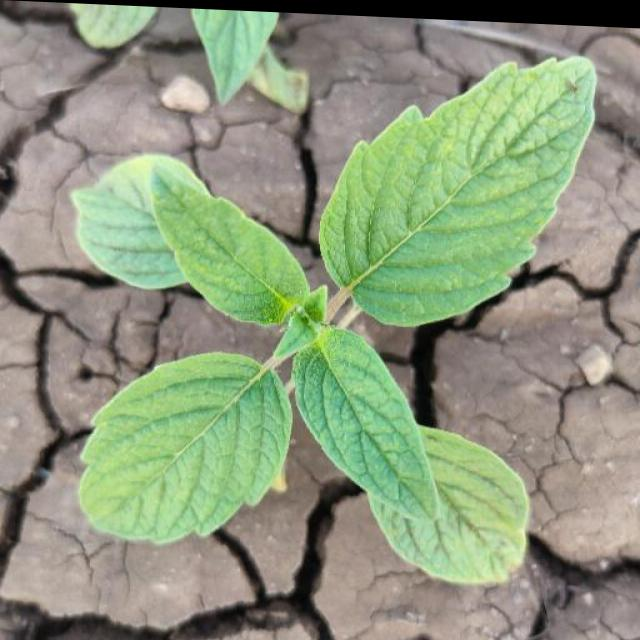crop: (24, 20, 606, 602)
